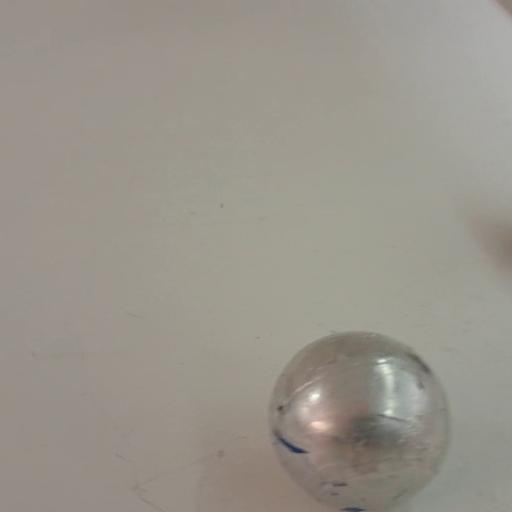alive: (264, 326, 456, 510)
